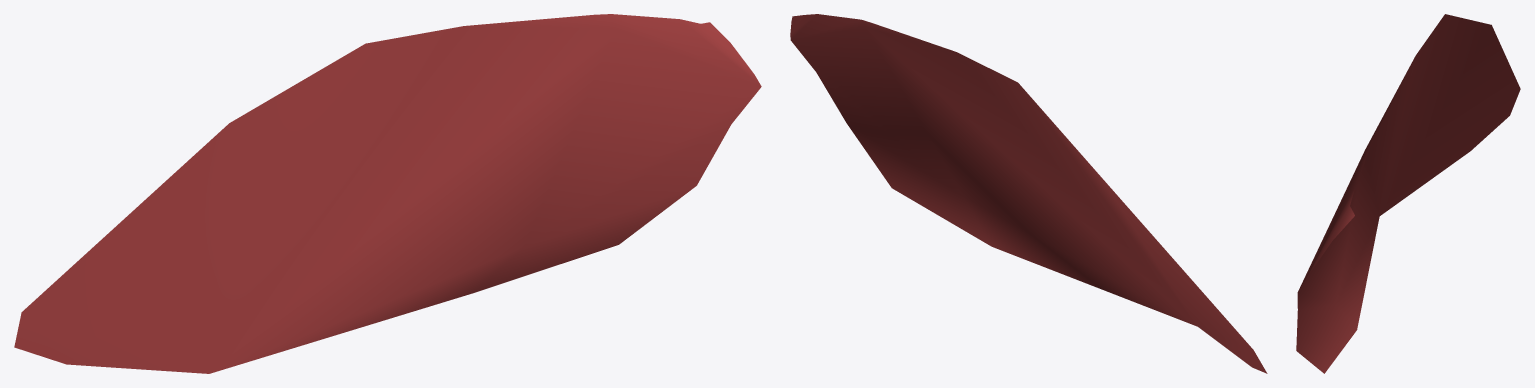
The model's file is rectus-anterior-capitis-muscle-el.glb.
The picture shows the model from 3 angles, left to right: view 1: azimuth 30°, elevation 25°; view 2: azimuth 150°, elevation 25°; view 3: azimuth 270°, elevation 25°; orthographic projection. The views are drawn at different scales.
Visible parts, largest first — view 1: Rectus anterior capitis muscle.el; view 2: Rectus anterior capitis muscle.el; view 3: Rectus anterior capitis muscle.el.
Part boxes in pixels (x1,y1,x2,y2): Rectus anterior capitis muscle.el: (14,14,761,373); Rectus anterior capitis muscle.el: (790,14,1267,373); Rectus anterior capitis muscle.el: (1296,14,1520,373).
Size of the model in its own units: 0.0166 by 0.00655 by 0.00425.
